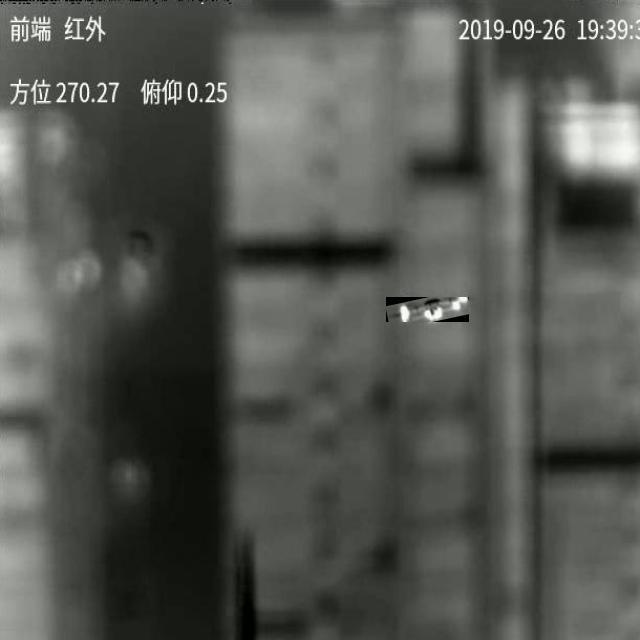drone: (386, 297, 469, 322)
